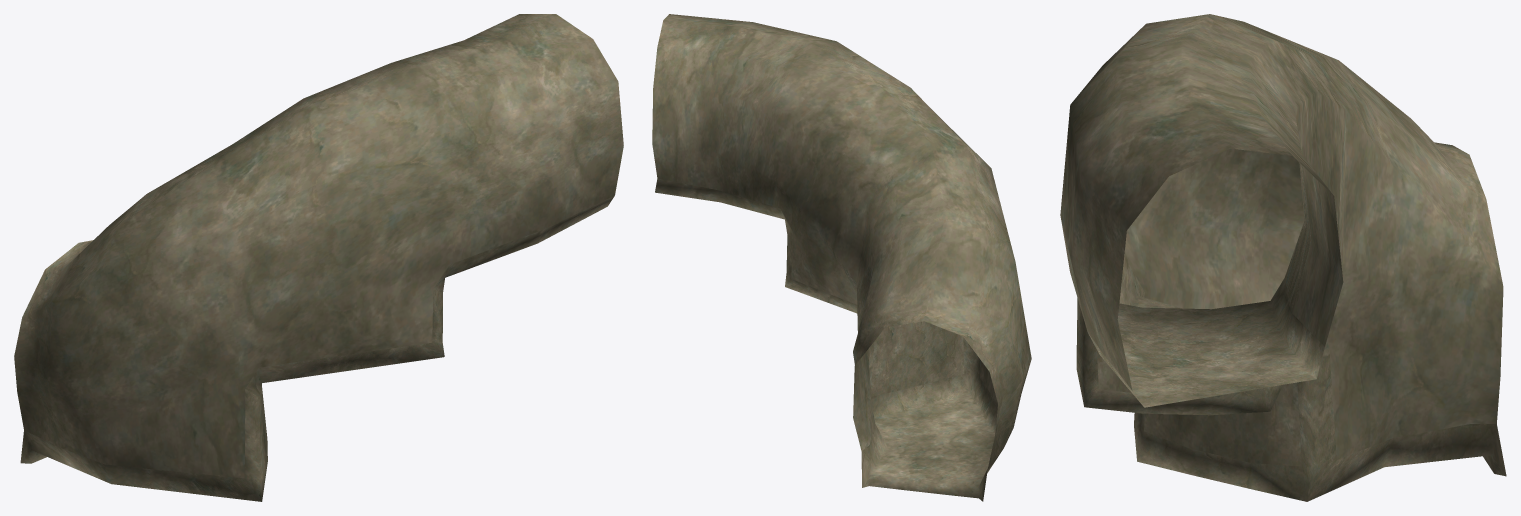
File: OVERHILL_A_01_STEP_CAVE.fbx
3 views of the same model, side by side, from view 1: azimuth 30°, elevation 25°; view 2: azimuth 150°, elevation 25°; view 3: azimuth 270°, elevation 25° (orthographic). The views are drawn at different scales.
Parts seen in each view (by area): view 1: OVERHILL_A_01_STEP_CAVE; view 2: OVERHILL_A_01_STEP_CAVE; view 3: OVERHILL_A_01_STEP_CAVE.
Boxes of the visible parts, <box> form: OVERHILL_A_01_STEP_CAVE: <box>14,14,623,501</box>; OVERHILL_A_01_STEP_CAVE: <box>652,14,1031,501</box>; OVERHILL_A_01_STEP_CAVE: <box>1060,14,1506,501</box>.
Bounding box in the file's own units: 130813 × 100195 × 73007.
Materials: 1 (1 with a texture image).
